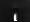person: (14, 6, 20, 21)
